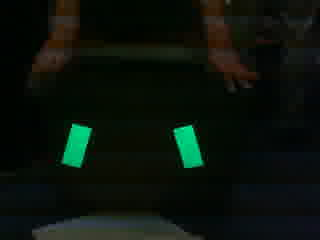target: (54, 120, 209, 169)
